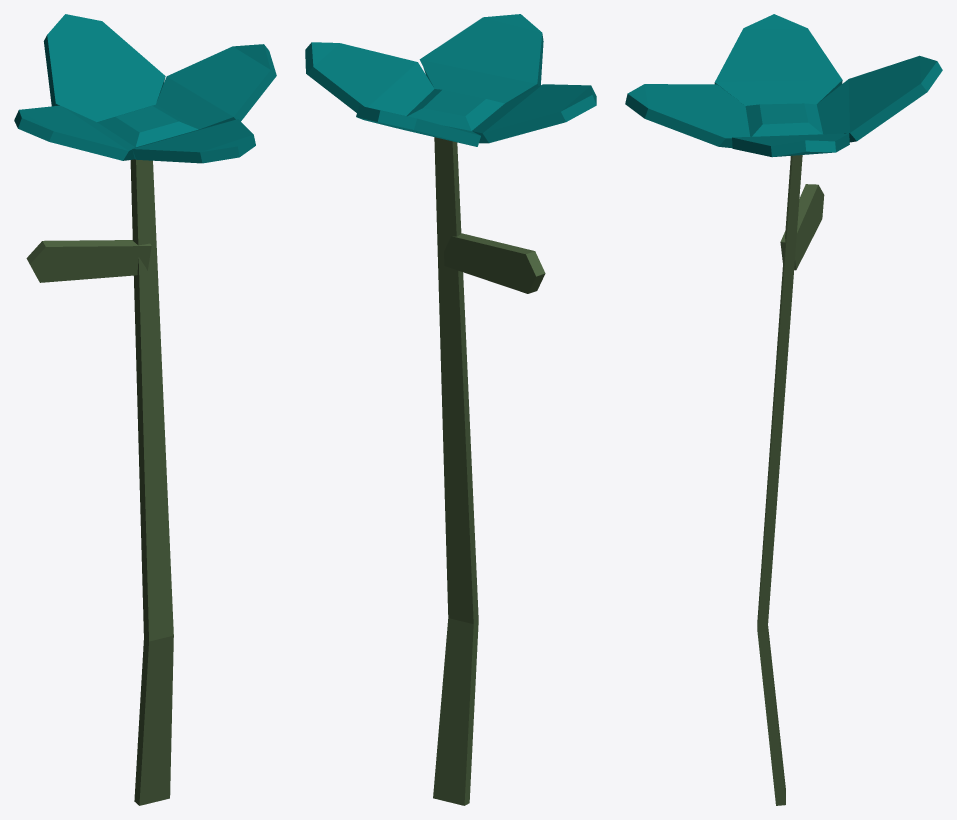
File: Flower_3.gltf
The picture shows the model from 3 angles, left to right: view 1: azimuth 30°, elevation 25°; view 2: azimuth 150°, elevation 25°; view 3: azimuth 270°, elevation 25°; orthographic projection. The views are drawn at different scales.
Parts seen in each view (by area): view 1: Flower_3; view 2: Flower_3; view 3: Flower_3.
Part boxes in pixels (bbox=[...]): Flower_3: bbox=[14, 14, 276, 805]; Flower_3: bbox=[305, 14, 596, 805]; Flower_3: bbox=[625, 14, 942, 805].
Size of the model in its own units: 0.1941 by 0.5071 by 0.1992.
